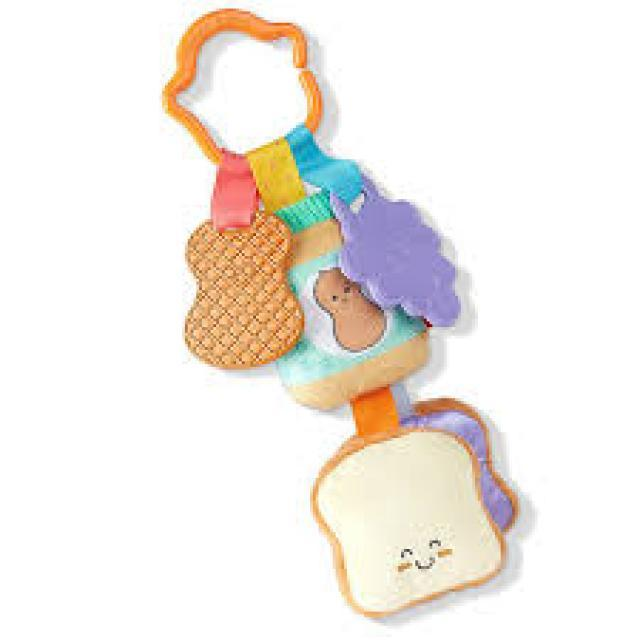hard-toy: (164, 12, 519, 617)
